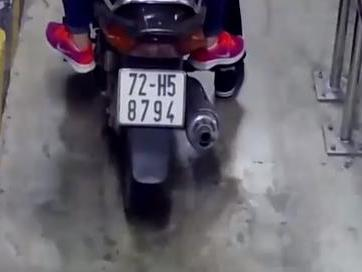num_plate: (118, 67, 185, 127)
